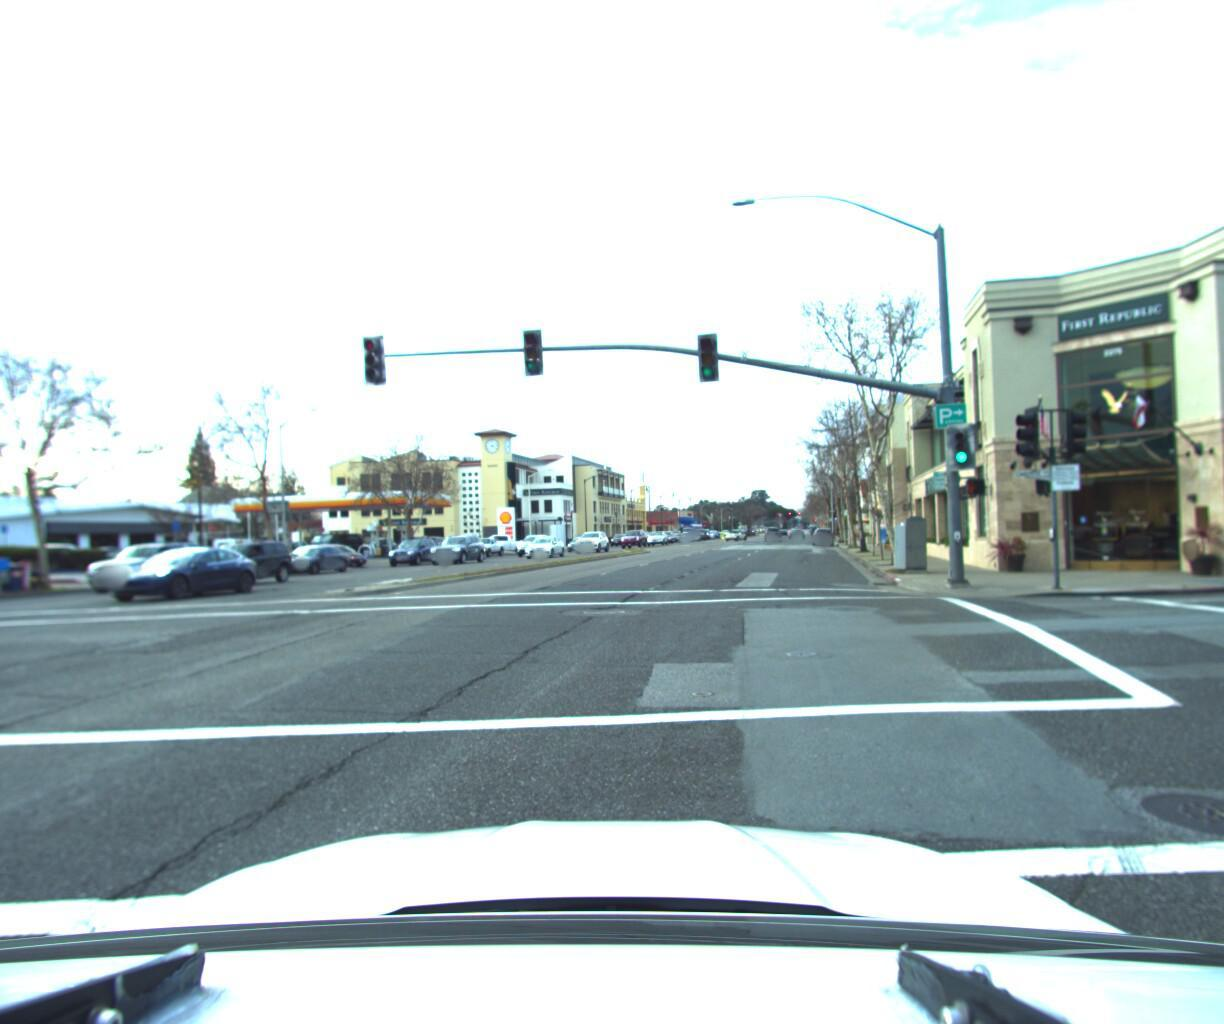car: (95, 546, 265, 606), (77, 541, 213, 596), (176, 539, 292, 590), (25, 542, 105, 579), (273, 543, 348, 579), (282, 543, 362, 575), (385, 531, 445, 567), (425, 533, 489, 566), (304, 543, 375, 573), (211, 539, 271, 571), (477, 530, 536, 552), (521, 533, 566, 558), (513, 531, 556, 556), (466, 536, 506, 559), (573, 529, 611, 552), (617, 526, 647, 546), (810, 525, 833, 545)
